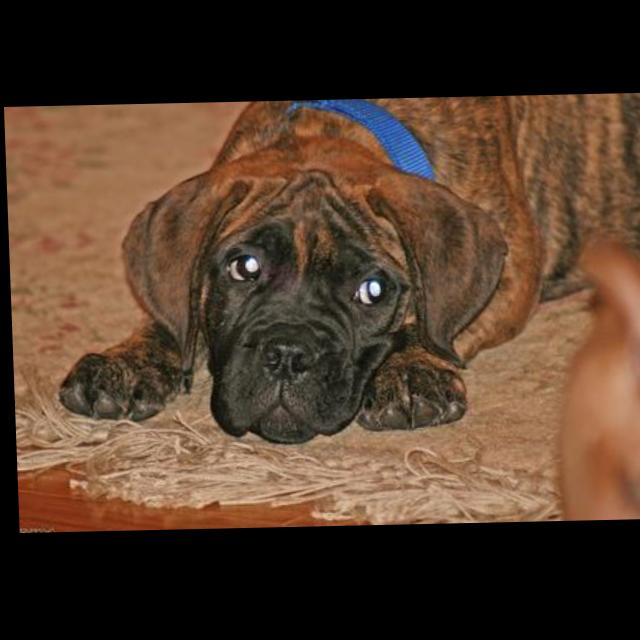bullmastiff: (48, 97, 640, 451)
